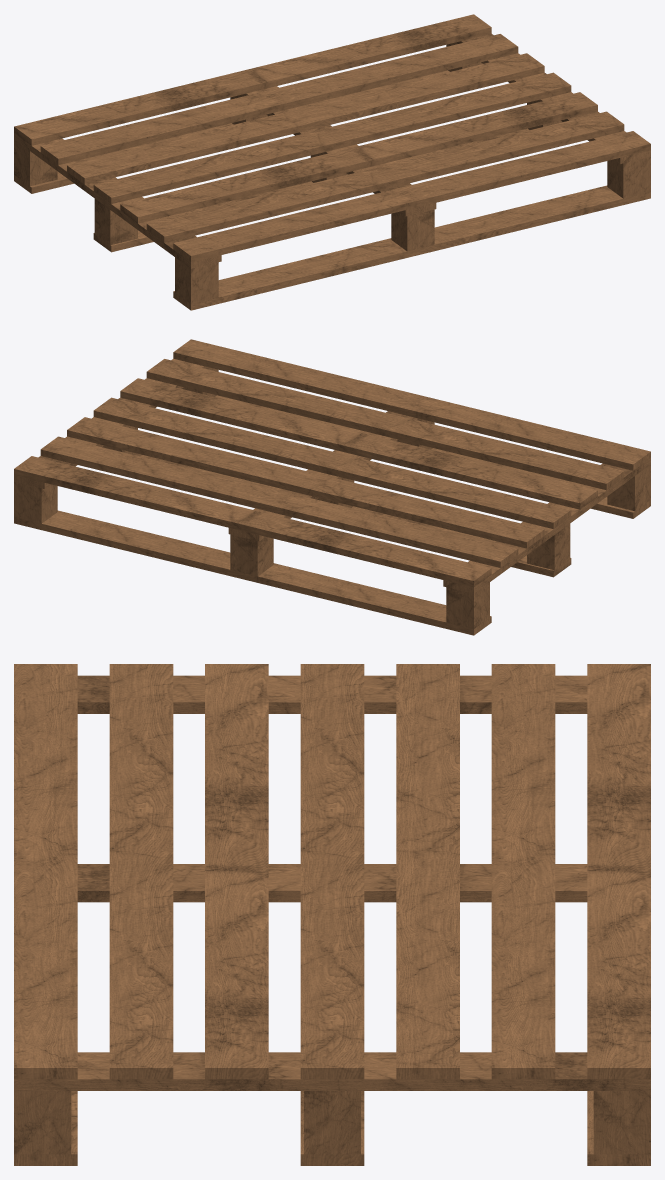
The model's file is C_Pallet.fbx.
3 views of the same model, one above another, from view 1: azimuth 30°, elevation 25°; view 2: azimuth 150°, elevation 25°; view 3: azimuth 270°, elevation 25° (orthographic). The views are drawn at different scales.
Visible parts, largest first — view 1: Plank_07, Plank_06, Plank_10, Plank_05, Plank_04, Plank_08, Plank_09, Plank_01, Plank_12, P_Pole_08, P_Pole_07, P_Pole_09 (+6 smaller); view 2: Plank_10, Plank_06, Plank_07, Plank_04, Plank_05, Plank_09, Plank_08, Plank_02, Plank_12, P_Pole_05, P_Pole_04, P_Pole_06 (+6 smaller); view 3: Plank_06, Plank_07, Plank_10, Plank_04, Plank_05, Plank_08, Plank_09, Plank_13, Plank_11, Plank_12, P_Pole_06, P_Pole_09 (+4 smaller).
Boxes of the visible parts, x1,y1,x2,y2 form: Plank_07: (146, 111, 624, 242); Plank_06: (93, 72, 571, 203); Plank_10: (40, 34, 518, 165); Plank_05: (14, 14, 491, 145); Plank_04: (173, 131, 650, 262); Plank_08: (120, 92, 597, 223); Plank_09: (67, 53, 544, 184); Plank_01: (173, 185, 650, 310); Plank_12: (14, 133, 221, 268); P_Pole_08: (175, 257, 218, 303); P_Pole_07: (391, 209, 434, 251); P_Pole_09: (607, 157, 650, 198); Plank_10: (40, 436, 518, 567); Plank_06: (93, 397, 571, 528); Plank_07: (146, 359, 624, 490); Plank_04: (173, 339, 650, 470); Plank_05: (14, 456, 491, 587); Plank_09: (67, 417, 544, 548); Plank_08: (120, 378, 597, 509); Plank_02: (14, 510, 491, 635); Plank_12: (443, 458, 650, 593); P_Pole_05: (446, 582, 489, 628); P_Pole_04: (230, 534, 273, 576); P_Pole_06: (14, 482, 57, 523); Plank_06: (300, 664, 364, 1079); Plank_07: (109, 664, 173, 1079); Plank_10: (491, 664, 555, 1079); Plank_04: (14, 664, 77, 1079); Plank_05: (587, 664, 650, 1079); Plank_08: (205, 664, 268, 1079); Plank_09: (396, 664, 459, 1079); Plank_13: (14, 1052, 650, 1090); Plank_11: (77, 864, 587, 902); Plank_12: (77, 675, 587, 713); P_Pole_06: (593, 1091, 650, 1154); P_Pole_09: (14, 1091, 71, 1154).
Bounding box in the file's own units: 7.5 × 0.85 × 5.
